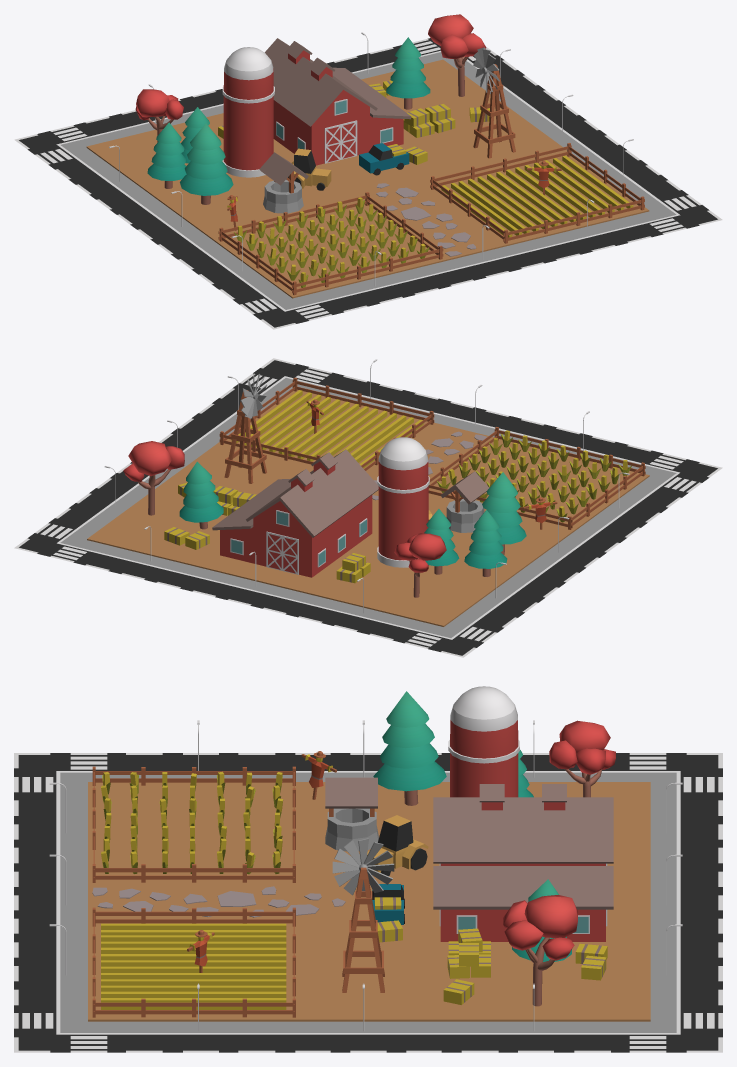
The model's file is FarmArea.fbx.
The picture shows the model from 3 angles, top to bottom: view 1: azimuth 30°, elevation 25°; view 2: azimuth 150°, elevation 25°; view 3: azimuth 270°, elevation 25°; orthographic projection. The views are drawn at different scales.
Visible parts, largest first — view 1: FarmArea; view 2: FarmArea; view 3: FarmArea.
Part boxes in pixels (left/top/right/bottom): FarmArea: left=14, top=14, right=722, bottom=329; FarmArea: left=14, top=358, right=722, bottom=657; FarmArea: left=14, top=686, right=722, bottom=1052.
Bounding box in the file's own units: 1000 × 259 × 1000.
Materials: 1 (1 with a texture image).
